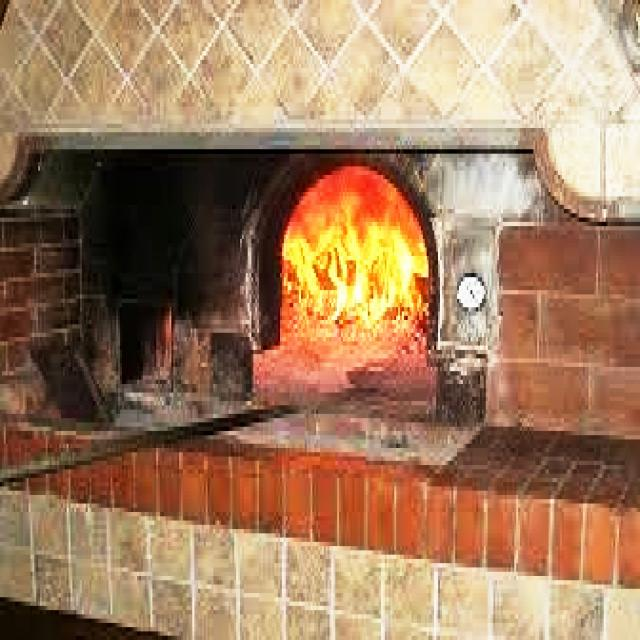api: (268, 159, 437, 372)
